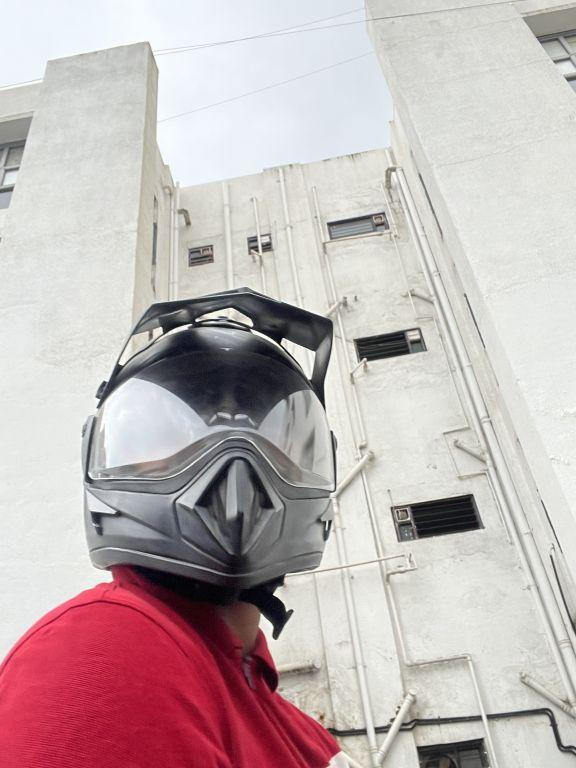helmet: (69, 274, 356, 626)
